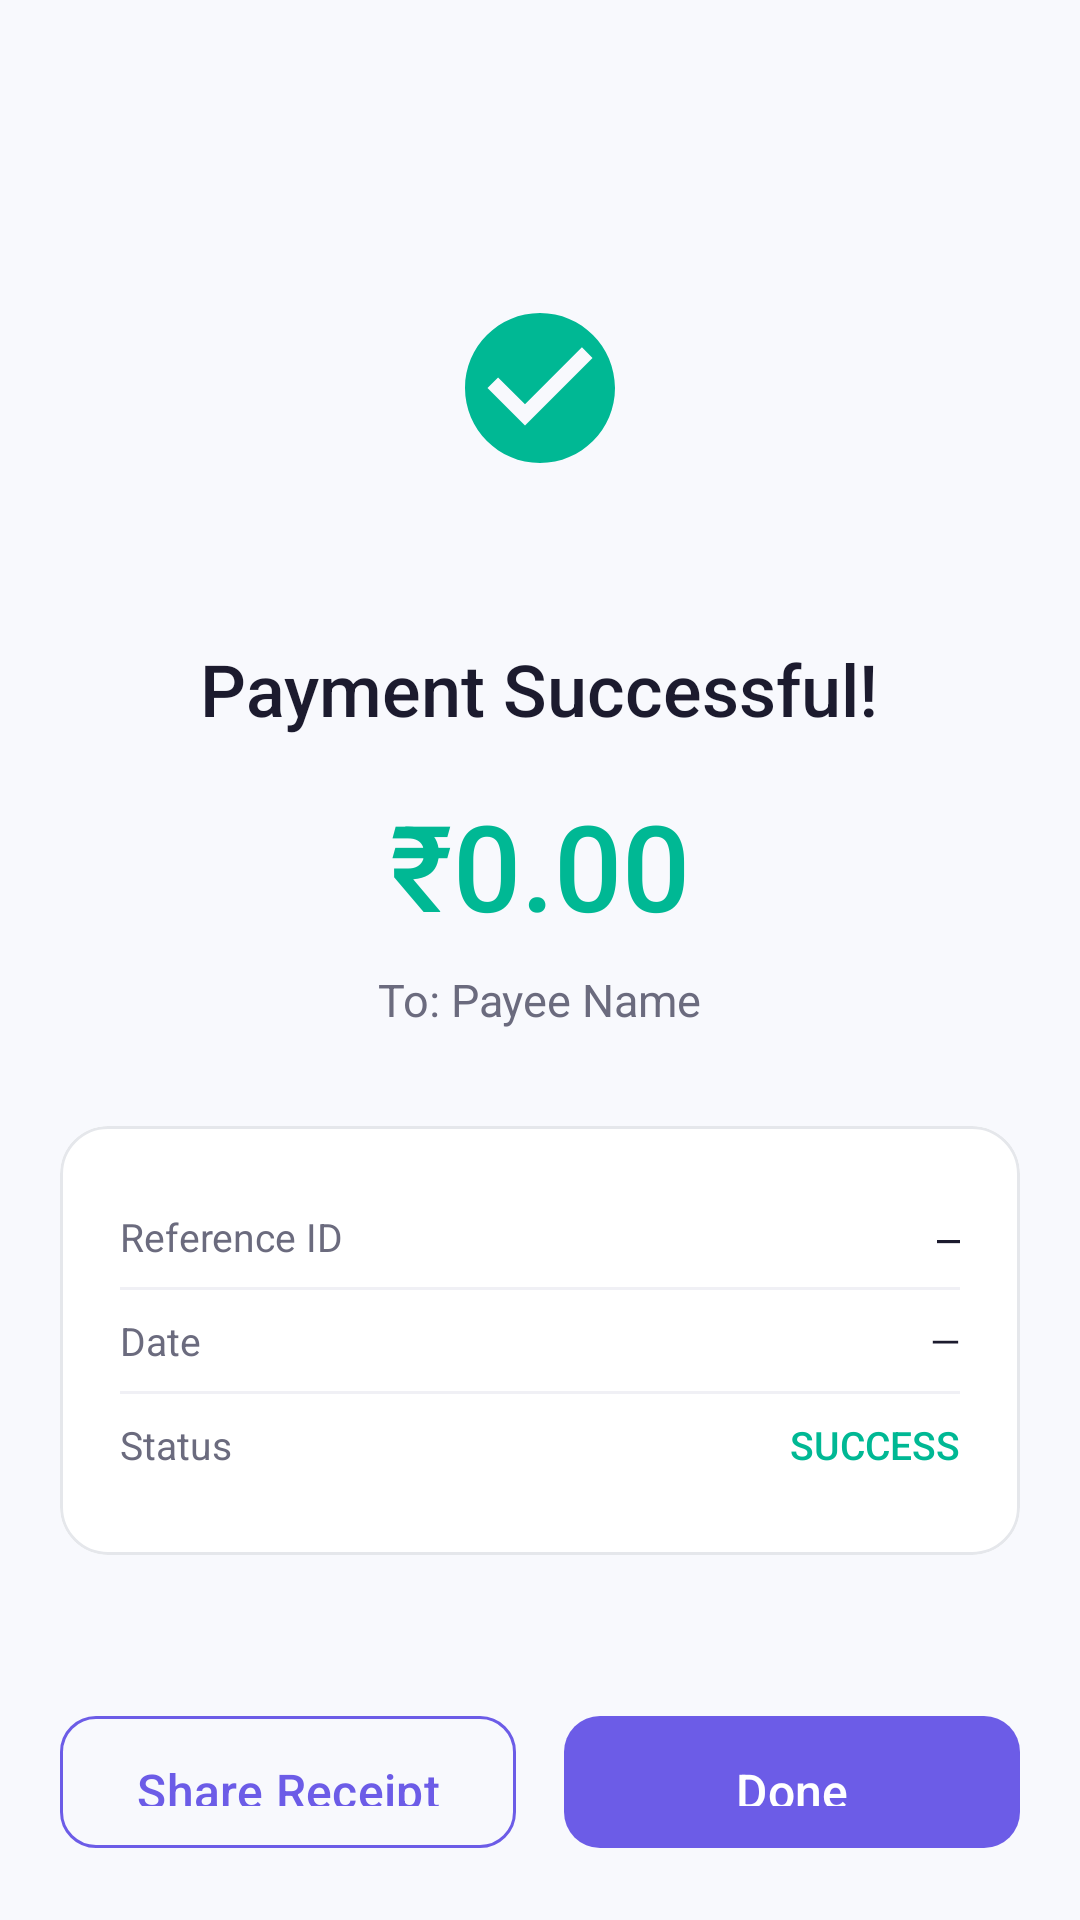

Screen size 1080 × 1920. Icon name, then its center in pixels as point (x, y):
check circle: point (540, 388)
